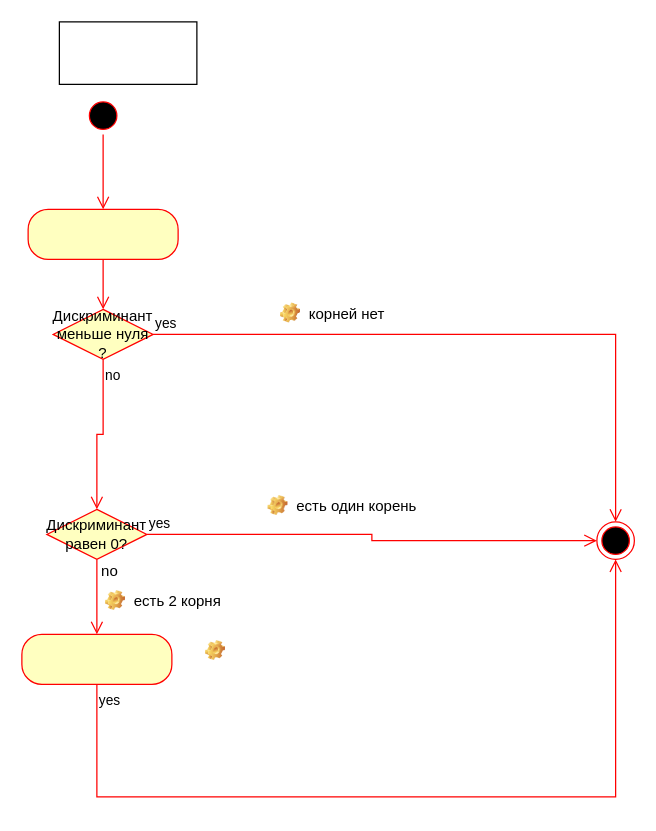
The diagram is 656 pixels wide and 831 high, and some of its shapes have lost their labels. Each missing label, with the centre of its shape:
"Вычисление уравнения" goes at (96,658).
"диаграмму деятельности (Activity)" goes at (127,52).
"Получение дискриминанта" goes at (102,233).
